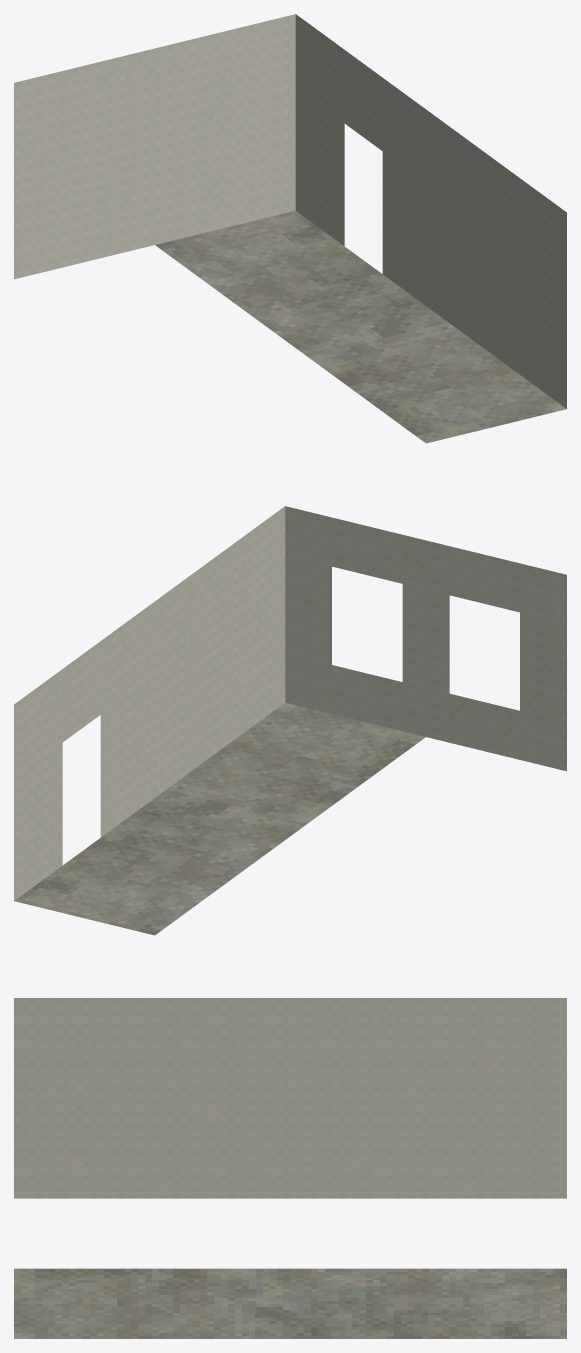
Rendered from TravelAgencySideStairFloor.glb.
3 renders of one model, top to bottom at view 1: azimuth 30°, elevation 25°; view 2: azimuth 150°, elevation 25°; view 3: azimuth 270°, elevation 25°, orthographic.
Parts seen in each view (by area): view 1: SideStairs_Floor; view 2: SideStairs_Floor; view 3: SideStairs_Floor.
Boxes of the visible parts, box(x1,y1,x2,y2) form: SideStairs_Floor: box(14, 14, 566, 443); SideStairs_Floor: box(14, 506, 566, 935); SideStairs_Floor: box(14, 998, 566, 1338).
Size of the model in its own units: 6 by 4 by 10.
2 materials, 2 textured.
